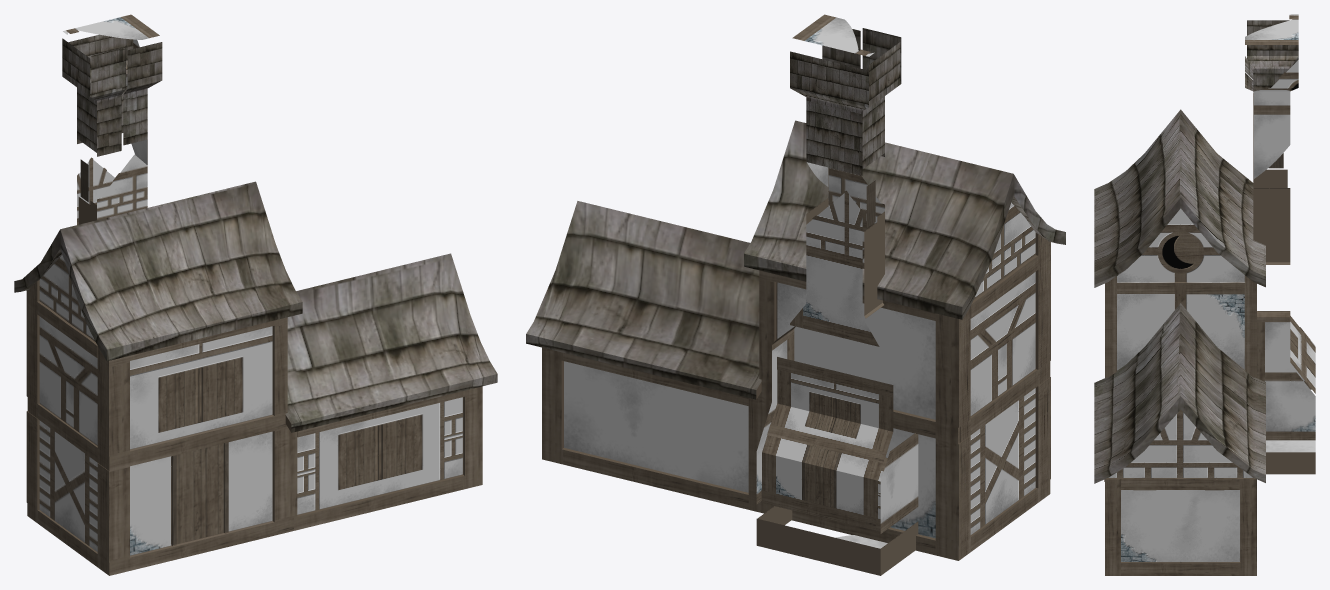
File: casaMedieval.obj
The picture shows the model from 3 angles, left to right: view 1: azimuth 30°, elevation 25°; view 2: azimuth 150°, elevation 25°; view 3: azimuth 270°, elevation 25°; orthographic projection. The views are drawn at different scales.
Parts seen in each view (by area): view 1: Cube, Cube.002; view 2: Cube, Cube.002; view 3: Cube, Cube.002.
Part boxes in pixels (x1,y1,x2,y2): Cube: (14,181,497,575); Cube.002: (62,14,162,224); Cube: (526,120,1065,560); Cube.002: (756,14,918,575); Cube: (1094,109,1265,575); Cube.002: (1245,14,1315,474).
Bounding box in the file's own units: 9.43 × 10.47 × 5.
2 materials, 2 textured.
